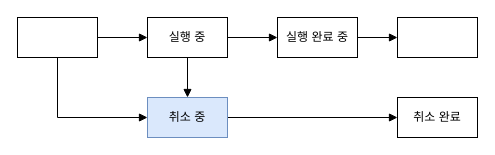
Image size: 495x155. Some labels were removed from this diagram. Here are the shapes that lost their labels. From the top down, the box of each, then its label:
(16, 16, 98, 58): 생성
(396, 16, 478, 58): 실행 완료
